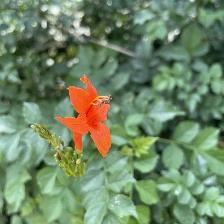honeysuckle: (64, 72, 119, 161)
